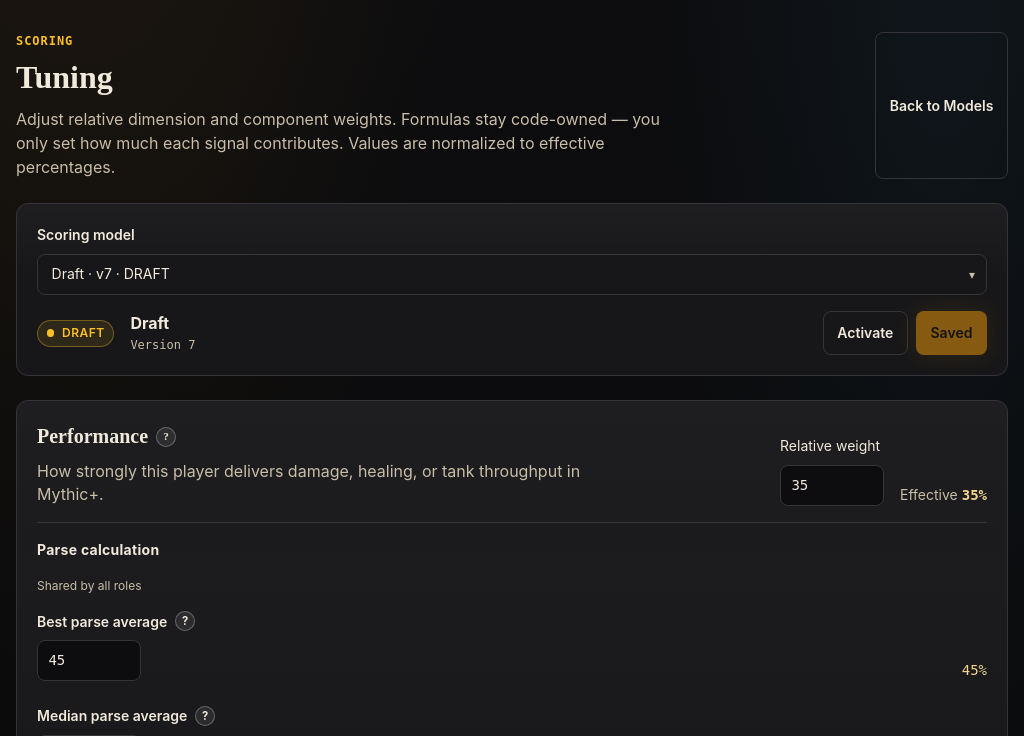
Scenario: AdminTuningPage › allows editing drafts and updates effective percentages
Replace the text in the number field with test id "dim-weight-performance" with "70": (832, 486) [780,465,884,506]
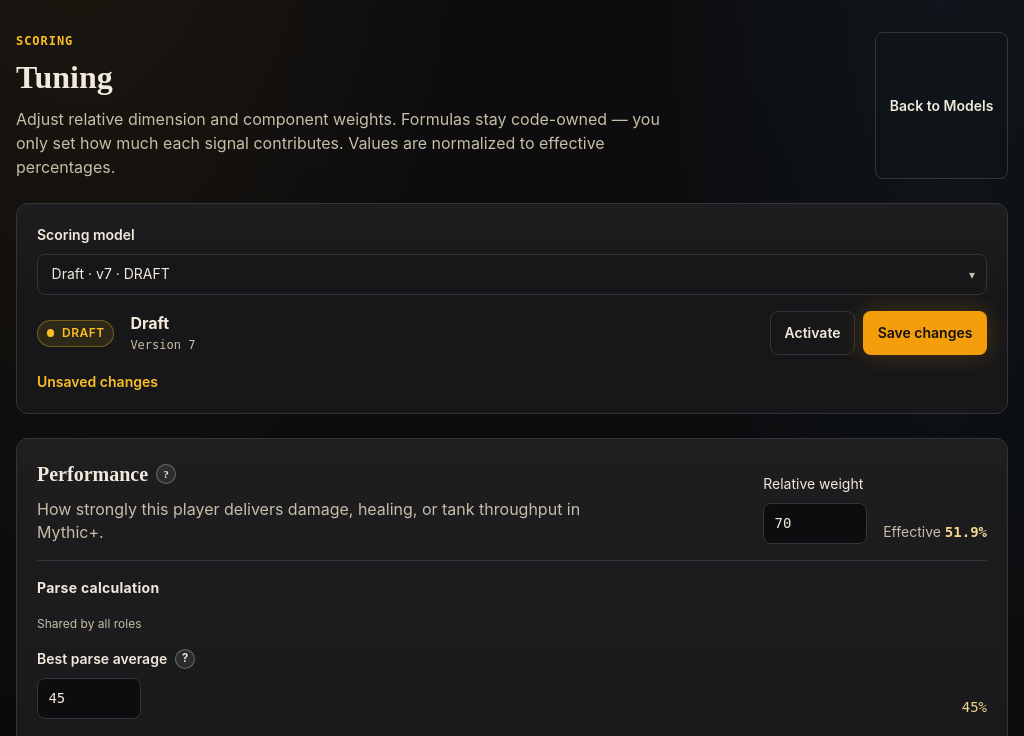
Check: the element with test id "dim-effective-performance" shows "%", box [883,521,987,544]
Check: the text "Unsaved changes" is shown, box [37,373,158,390]
